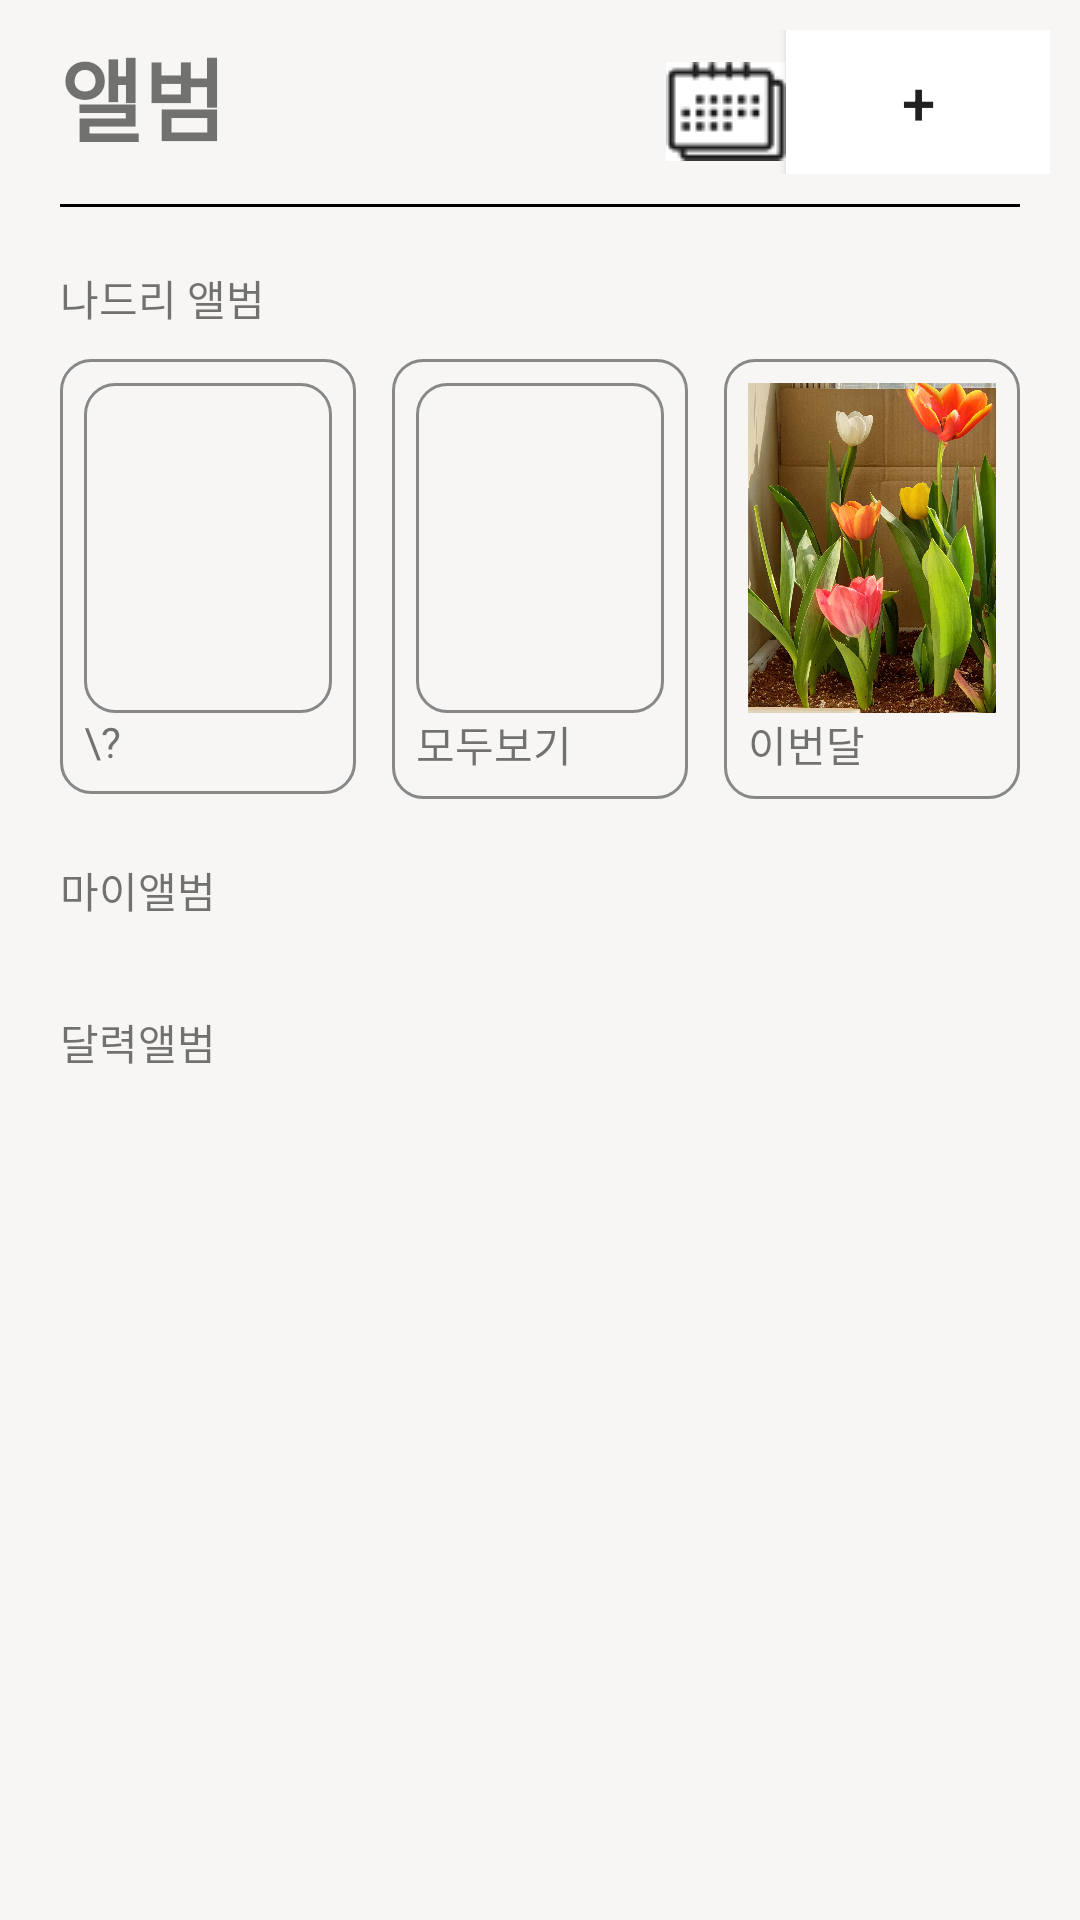

Where icons sit on this 1080 × 1920 app screen, as (x1, y1, x2, y2):
calendar: (666, 62, 786, 161)
